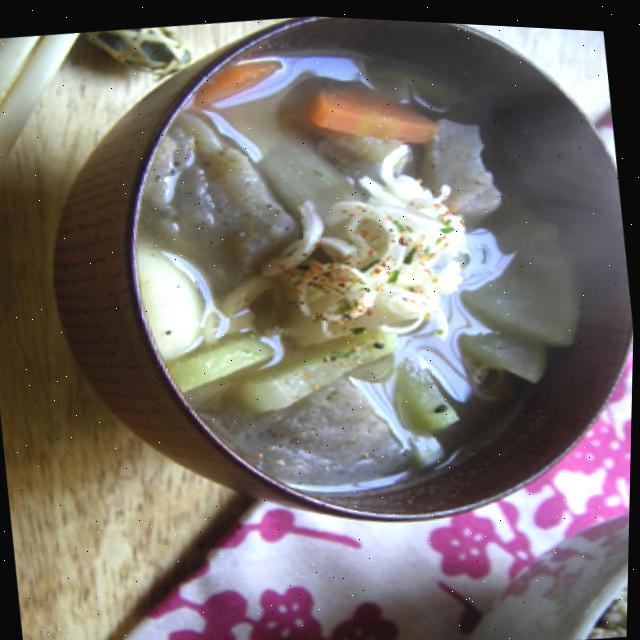蔬菜料理: (30, 2, 640, 570)
